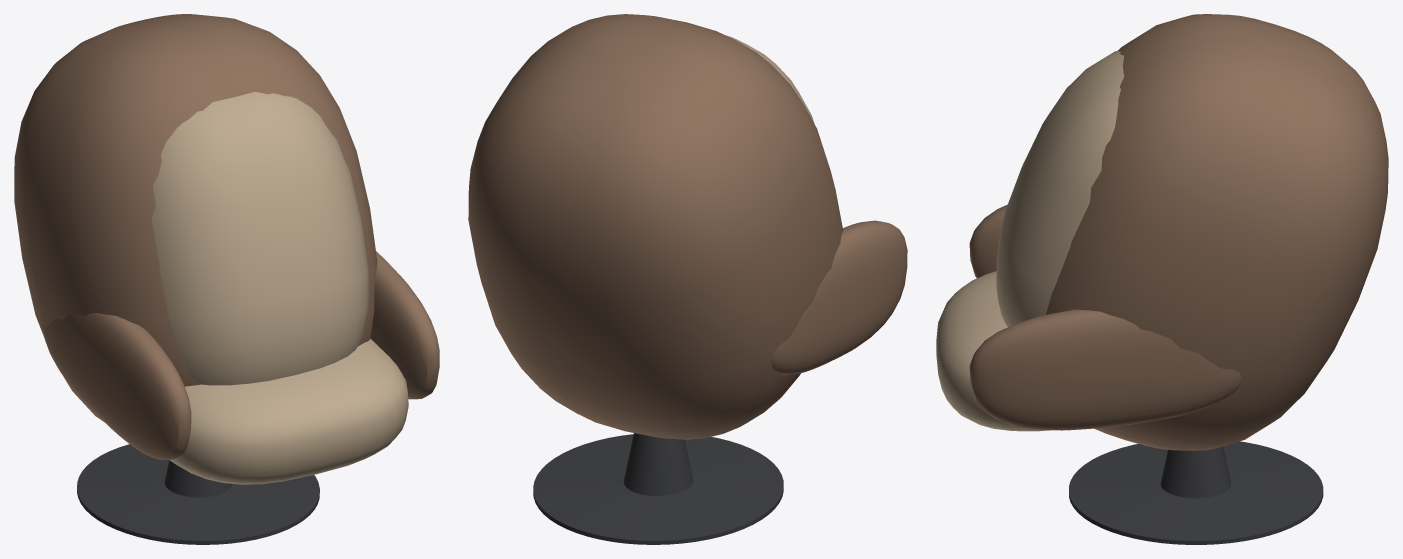
The picture shows the model from 3 angles, left to right: view 1: azimuth 30°, elevation 25°; view 2: azimuth 150°, elevation 25°; view 3: azimuth 270°, elevation 25°; orthographic projection. The views are drawn at different scales.
Visible parts, largest first — view 1: MH20BR; view 2: MH20BR; view 3: MH20BR.
Part boxes in pixels (x1,y1,x2,y2): MH20BR: (14, 14, 439, 544); MH20BR: (468, 14, 907, 544); MH20BR: (936, 14, 1388, 544).
Bounding box in the file's own units: 0.753 × 1.13 × 1.01.
